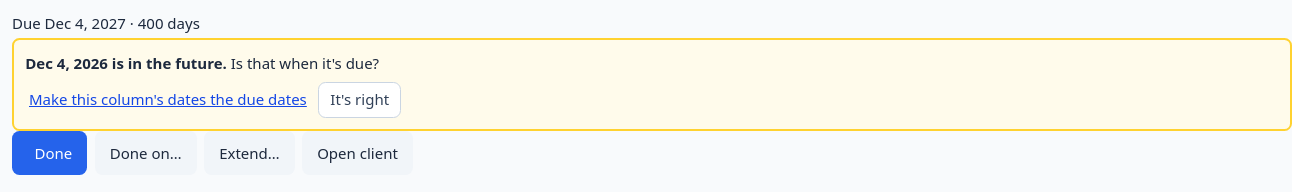
Scenario: a future "last done" date › "It's right" hides it for this record and date
Click the button "It's right": x=360, y=100 [318, 82, 401, 118]
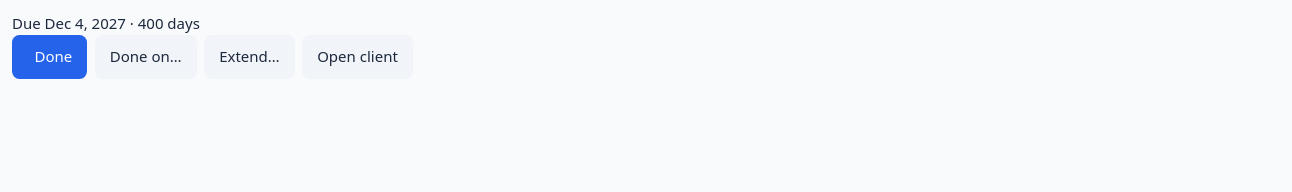
expect the element with test id "future-last-done" is gone: met
